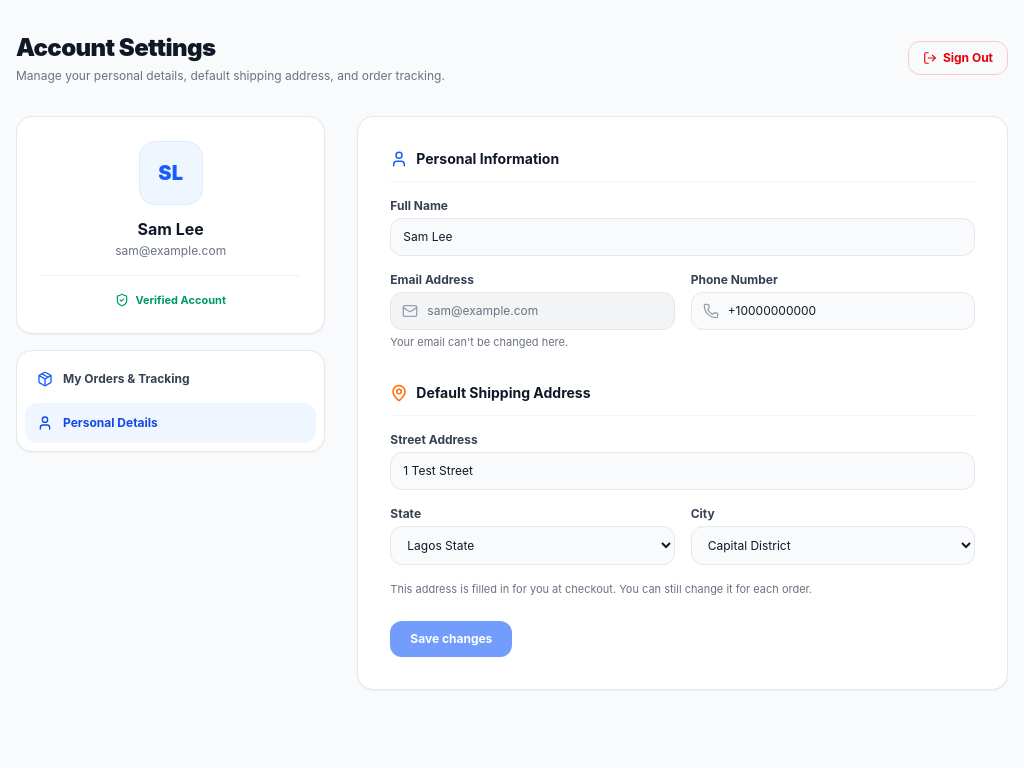
Test case: Profile page › validation › refuses a phone with letters
Replace the text in the field labelled "Phone Number" with "abc" at (833, 311), box [691, 292, 975, 330]
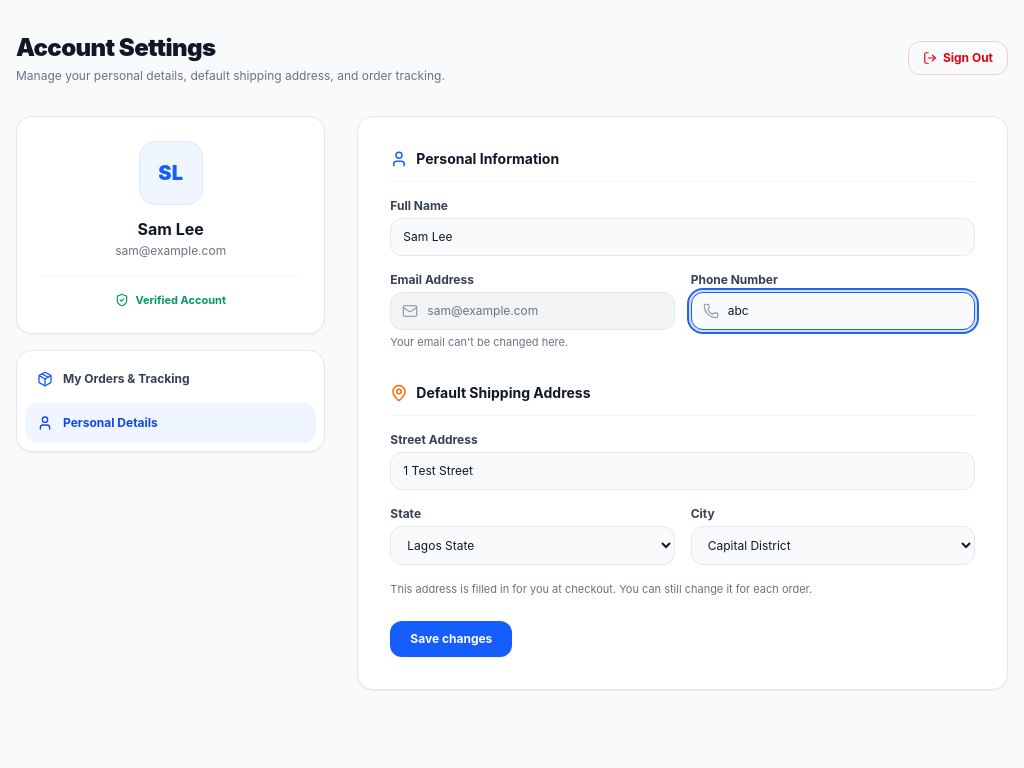
Click the button "Save changes".
click(451, 639)  # box [390, 621, 512, 657]
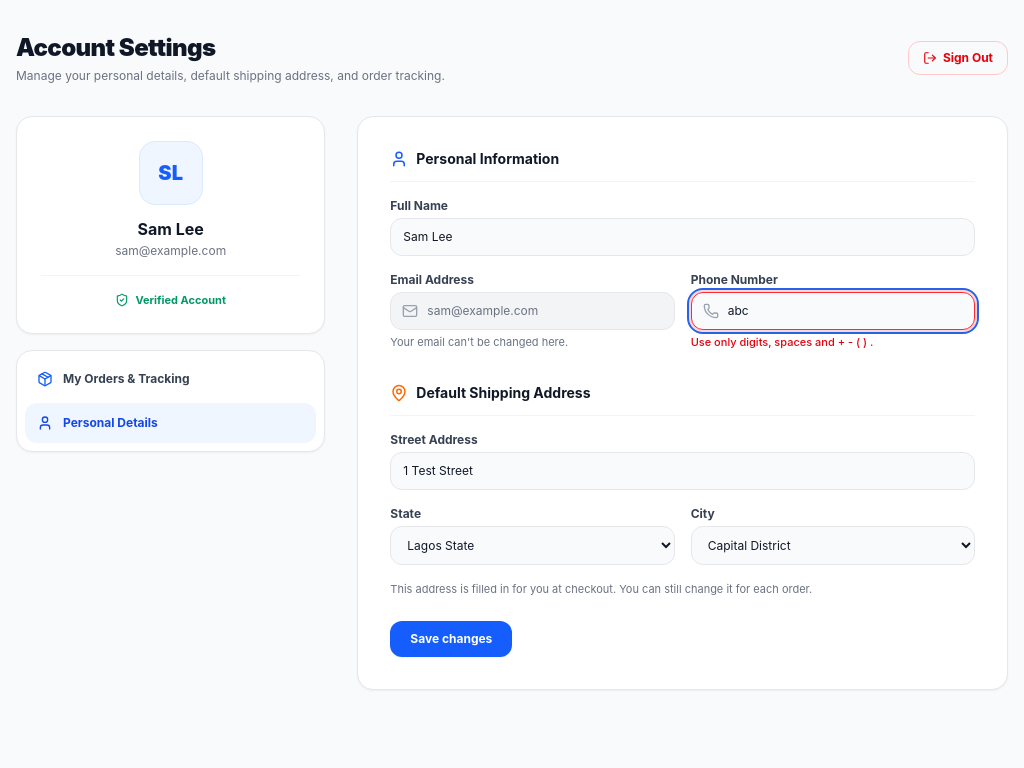
Now the text "Use only digits, spaces and + - ( ) ." is shown, box [691, 335, 873, 349]
